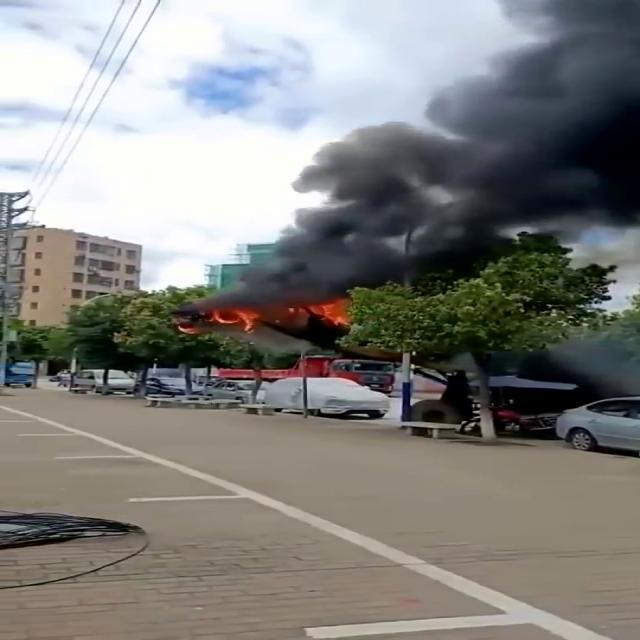Fire: (218, 296, 358, 328)
Smoke: (225, 17, 640, 317)
